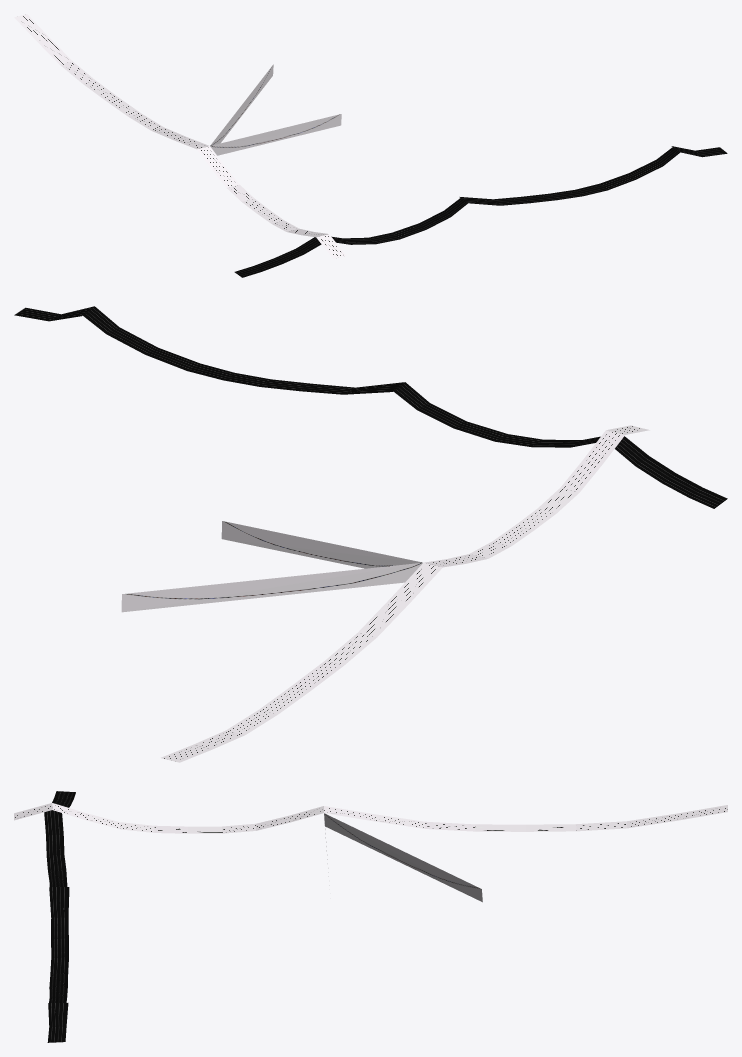
The model's file is wires_07_sfs.obj.
3 renders of one model, top to bottom at view 1: azimuth 30°, elevation 25°; view 2: azimuth 150°, elevation 25°; view 3: azimuth 270°, elevation 25°, orthographic. The views are drawn at different scales.
Parts seen in each view (by area): view 1: wires_07_SFS; view 2: wires_07_SFS; view 3: wires_07_SFS.
Part boxes in pixels (<box>): wires_07_SFS: <box>14,14,727,277</box>; wires_07_SFS: <box>14,306,727,762</box>; wires_07_SFS: <box>14,791,727,1042</box>.
Size of the model in its own units: 62.23 by 3.11 by 71.54.
3 materials, 3 textured.
